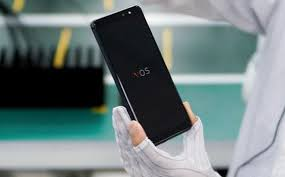vsmart: (87, 3, 197, 148)
